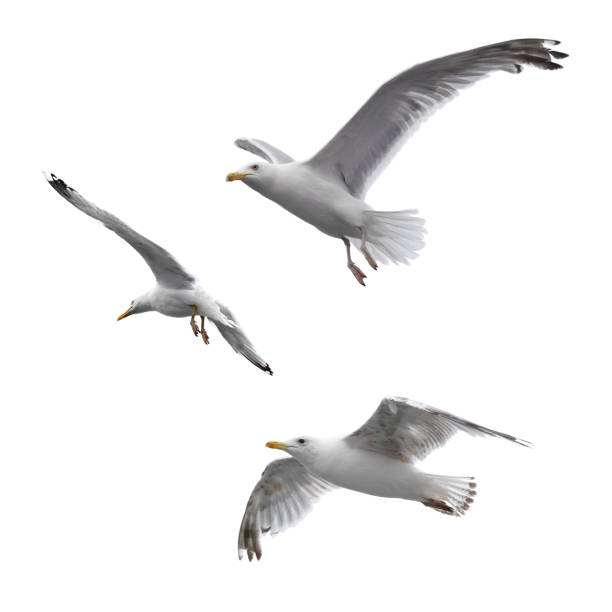Bird: (219, 30, 570, 290), (232, 390, 531, 564), (37, 165, 275, 377)
